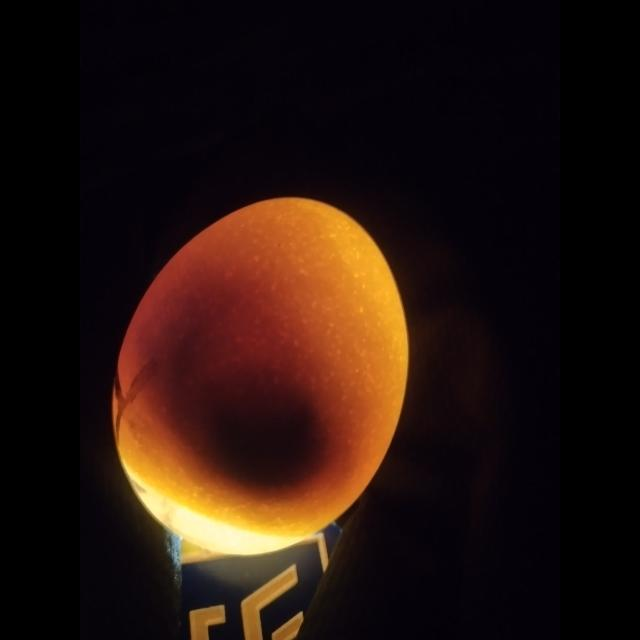Infertile: (110, 192, 418, 554)
